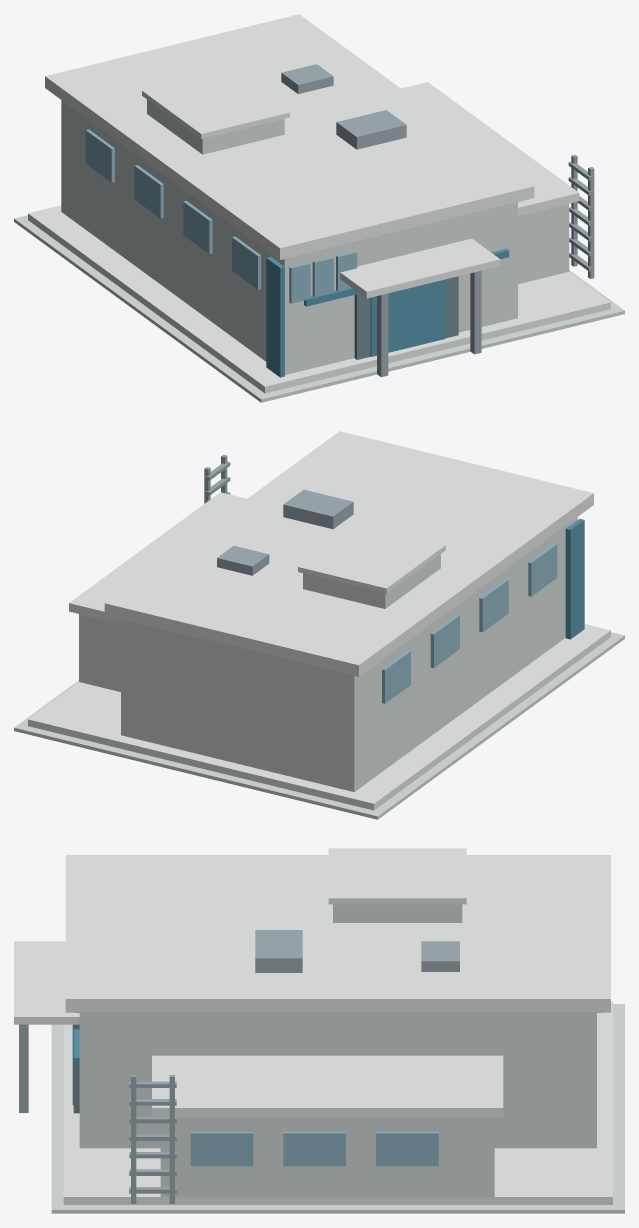
The model's file is pumphouse.glb.
3 renders of one model, top to bottom at view 1: azimuth 30°, elevation 25°; view 2: azimuth 150°, elevation 25°; view 3: azimuth 270°, elevation 25°, orthographic. The views are drawn at different scales.
Visible parts, largest first — view 1: PumpHouse; view 2: PumpHouse; view 3: PumpHouse.
Boxes of the visible parts, x1,y1,x2,y2 form: PumpHouse: (14,14,624,402); PumpHouse: (14,431,624,819); PumpHouse: (14,848,624,1213).
Bounding box in the file's own units: 4.57 × 1.98 × 5.67.
